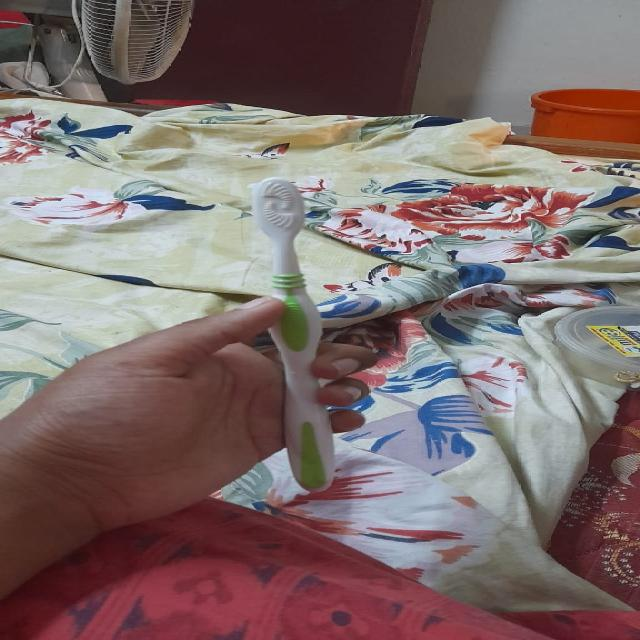Tooth_Brush - Non Recyclable: (222, 172, 398, 506)
